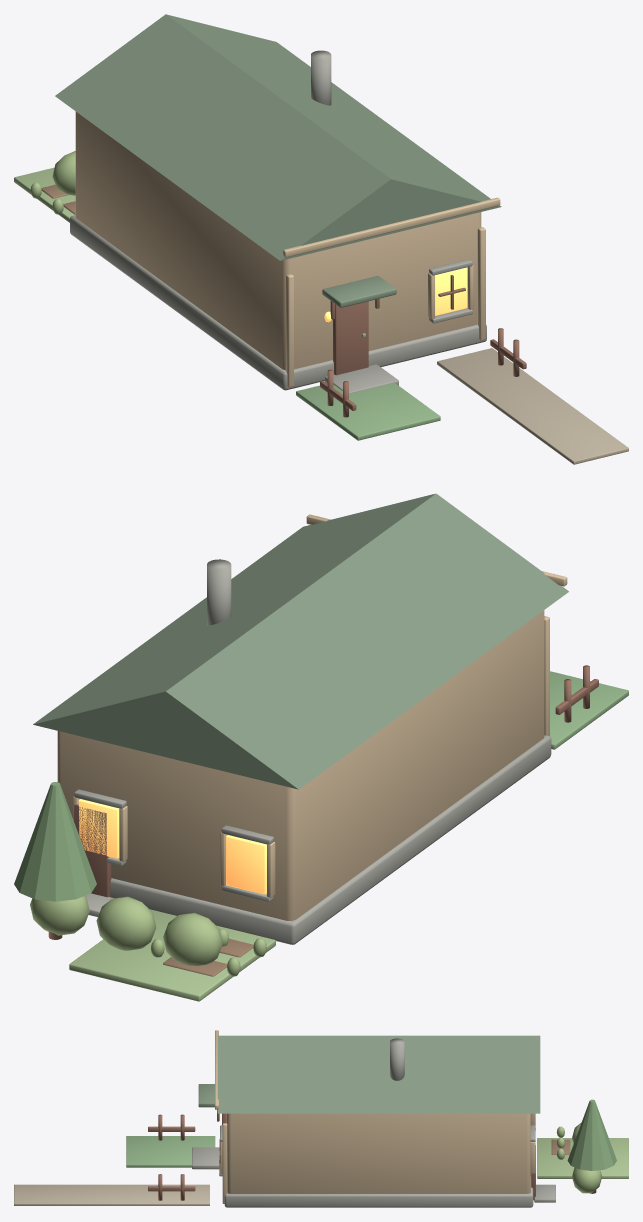
Rendered from pine_ridge_cottage_v1.lod0.glb.
3 renders of one model, top to bottom at view 1: azimuth 30°, elevation 25°; view 2: azimuth 150°, elevation 25°; view 3: azimuth 270°, elevation 25°, orthographic. The views are drawn at different scales.
Parts seen in each view (by area): view 1: MainRoof, MainBody, Driveway, StonePlinth, FrontGreenVerge, PublicDoor, FrontFascia, DoorCanopy, FrontWindow1, PublicStep, Chimney, RearYardPatch (+3 smaller); view 2: MainRoof, MainBody, StonePlinth, RearYardPatch, YardTreeCrown, FrontGreenVerge, Hedge2, Hedge1, RearWindow1, RearWindow2, ServiceDoor, Hedge3 (+2 smaller); view 3: MainRoof, MainBody, StonePlinth, Driveway, FrontGreenVerge, YardTreeCrown, RearYardPatch, PublicStep, Chimney, Hedge3, CornerQuoin, DoorCanopy (+1 smaller).
Boxes of the visible parts, x1,y1,x2,y2 form: MainRoof: (55, 14, 501, 260); MainBody: (75, 111, 481, 370); Driveway: (437, 348, 628, 464); StonePlinth: (70, 215, 486, 390); FrontGreenVerge: (296, 383, 440, 440); PublicDoor: (333, 301, 368, 375); FrontFascia: (283, 197, 500, 257); DoorCanopy: (322, 276, 396, 307); FrontWindow1: (435, 267, 467, 315); PublicStep: (325, 364, 398, 393); Chimney: (311, 50, 331, 105); RearYardPatch: (14, 167, 75, 222); MainRoof: (33, 493, 568, 789); MainBody: (57, 610, 544, 920); StonePlinth: (110, 735, 551, 944); RearYardPatch: (69, 909, 275, 1001); YardTreeCrown: (14, 782, 96, 901); FrontGreenVerge: (550, 671, 628, 749); Hedge2: (96, 896, 156, 950); Hedge1: (163, 912, 222, 965); RearWindow1: (226, 835, 266, 894); RearWindow2: (78, 799, 119, 858); ServiceDoor: (74, 804, 111, 897); Hedge3: (30, 895, 89, 935); MainRoof: (217, 1035, 540, 1113); MainBody: (227, 1113, 530, 1193); StonePlinth: (224, 1176, 533, 1207); Driveway: (14, 1184, 209, 1205); FrontGreenVerge: (126, 1136, 215, 1167); YardTreeCrown: (567, 1099, 616, 1170); RearYardPatch: (537, 1138, 628, 1178); PublicStep: (192, 1147, 219, 1169); Chimney: (390, 1038, 404, 1080); Hedge3: (572, 1167, 602, 1193); CornerQuoin: (222, 1123, 227, 1203); DoorCanopy: (198, 1084, 214, 1107).
Size of the model in its own units: 7 by 6.35 by 23.49.
